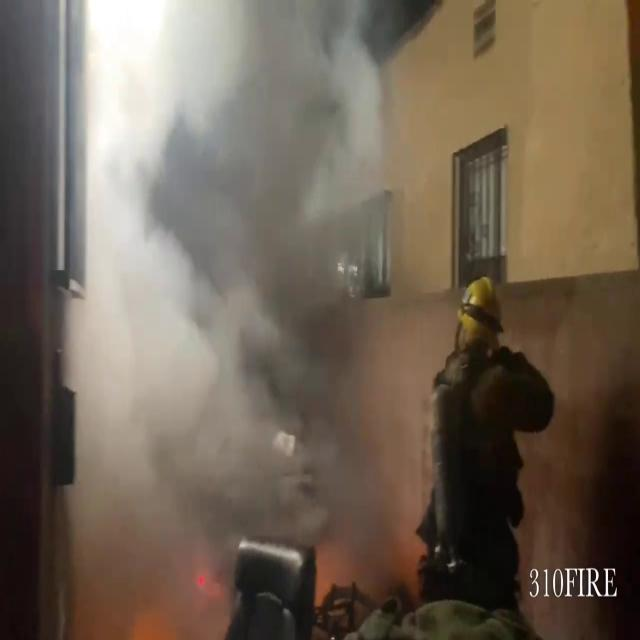Smoke: (51, 1, 465, 618)
